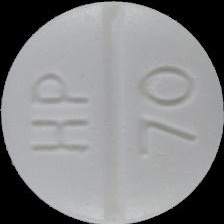23155-070: (0, 0, 224, 224)
